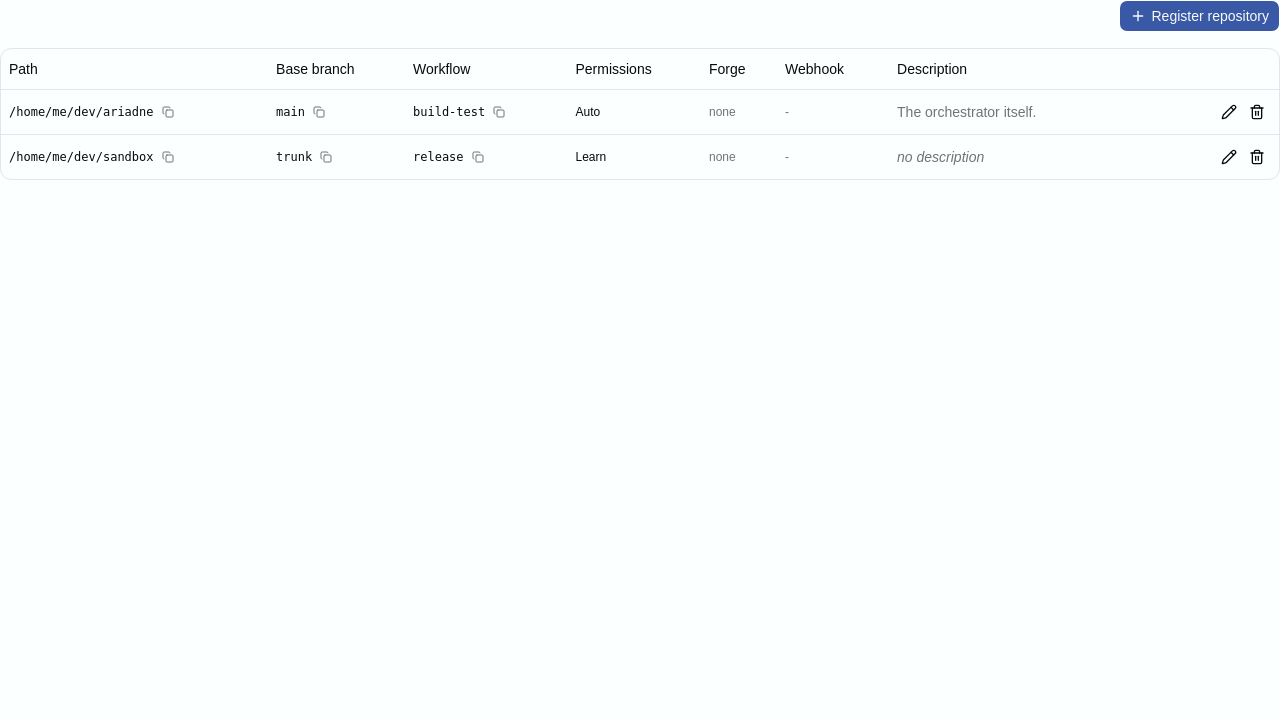
Test: RepositoriesPage › opens the edit dialog on the repository of the row it was clicked in
Click the button named "Edit /home/me/dev/sandbox".
click(1229, 156)  # box 1215,142 -> 1243,170
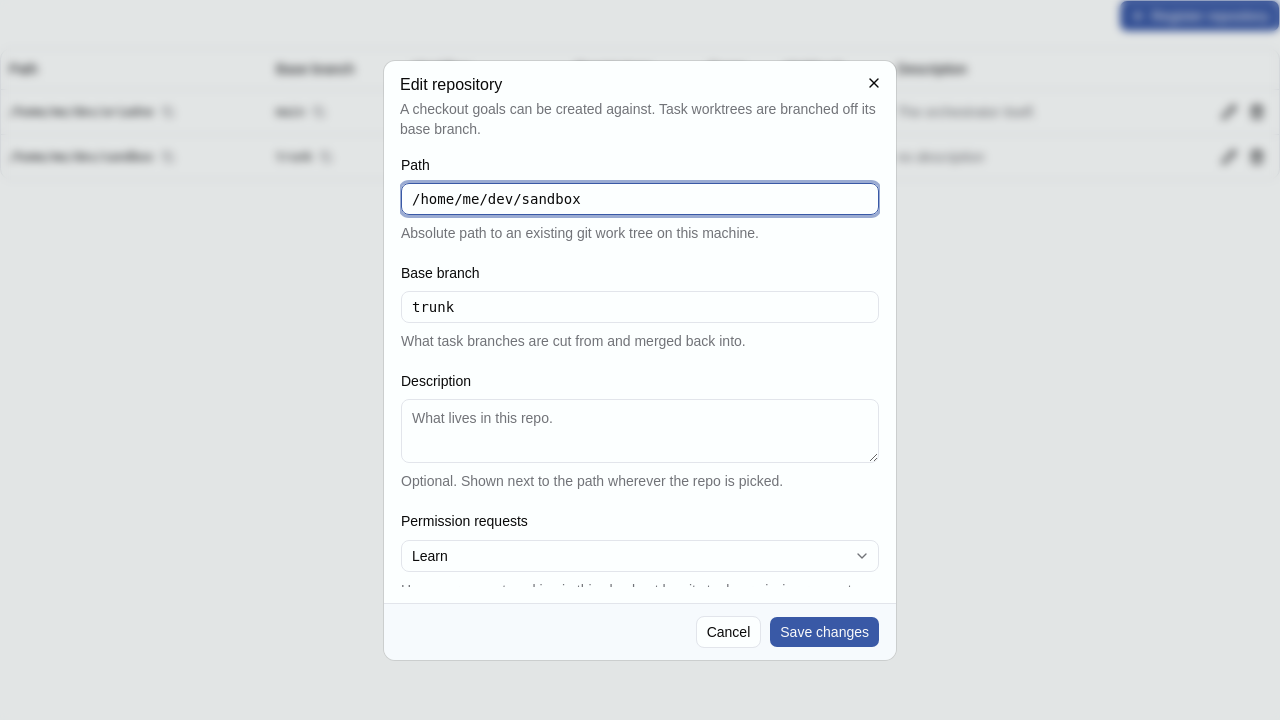
Check: the field labelled "Path" holds "/home/me/dev/sandbox", box 401,183 -> 879,215
Check: the field labelled "Base branch" holds "trunk", box 401,291 -> 879,323
